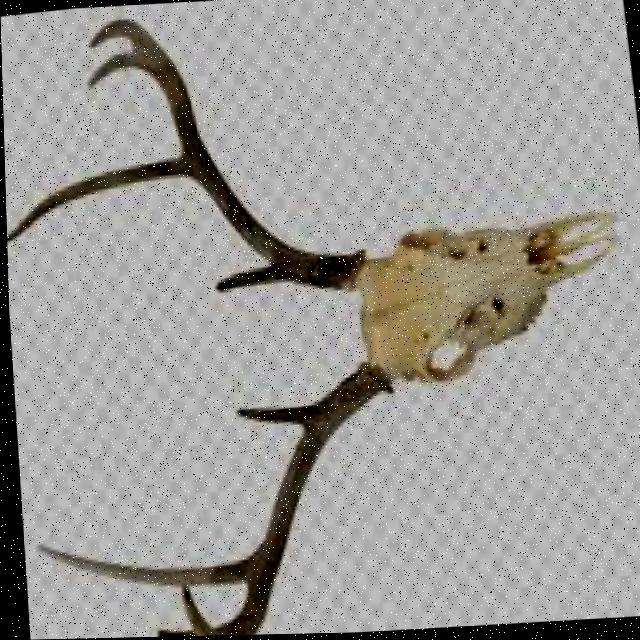L-F: (177, 362, 394, 637)
L-G1: (230, 406, 312, 427)
L-G2: (31, 541, 246, 588)
R-F: (85, 19, 363, 291)
R-G1: (212, 265, 285, 293)
R-G2: (5, 156, 191, 246)
R-G3: (85, 50, 151, 90)
